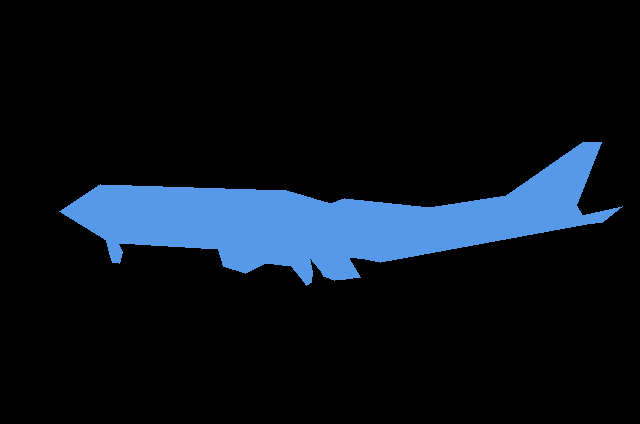Airplane: (59, 142, 623, 285)
